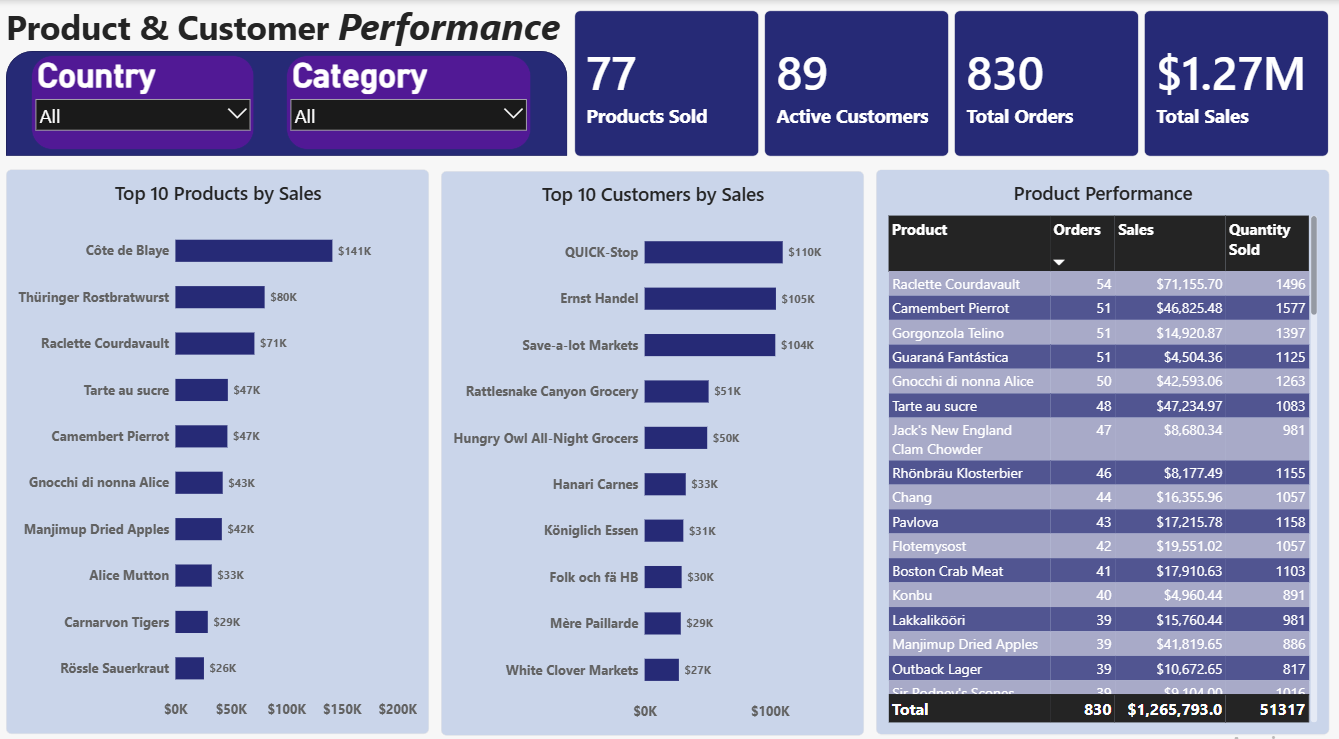

This screenshot's page, from the dashboard's own definition file:
{"tool":"powerbi","page":{"name":"Page 2","canvas":[1920,1080],"ordinal":1},"visuals":[{"type":"textbox","box":[9.5,0,813.6,90.7],"z":0},{"type":"cardVisual","fields":{"Data":["_measures.Total Product Sold","_measures.Total Customers","_measures.Total Orders","_measures.Total Sales"]},"box":[823.1,14.3,1080.8,210],"z":1},{"type":"shape","box":[9.5,74,804.1,150.3],"z":2},{"type":"clusteredBarChart","title":"Top 10 Products by Sales","fields":{"Category":["dim_products.product_name"],"Y":["_measures.Total Sales"]},"box":[9.5,243.4,606,808.8],"z":3},{"type":"clusteredBarChart","title":"Top 10 Customers by Sales","fields":{"Category":["dim_customers.company_name"],"Y":["_measures.Total Sales"]},"box":[632.3,245.7,606,808.8],"z":4},{"type":"tableEx","title":"Product Performance","fields":{"Values":["dim_products.product_name","_measures.Total Orders","_measures.Total Sales","_measures.Total Quantity Sold"]},"box":[1255,243.4,649,809],"z":5},{"type":"slicer","fields":{"Values":["dim_customers.country"]},"box":[44.9,80.3,319,134.7],"z":6},{"type":"slicer","fields":{"Values":["dim_products.category_name"]},"box":[411.1,80.3,349.7,134.7],"z":7}]}

Visuals, with their boxes in screenshot pixels (x1, y1, x2, y2), scaled from the page's 1920x1080 canvas onto the 1339x739 screenshot:
textbox: box(7, 0, 574, 62)
cardVisual - _measures.Total Product Sold x _measures.Total Customers: box(574, 10, 1328, 153)
shape: box(7, 51, 567, 153)
"Top 10 Products by Sales" clusteredBarChart: box(7, 167, 429, 720)
"Top 10 Customers by Sales" clusteredBarChart: box(441, 168, 864, 722)
"Product Performance" tableEx: box(875, 167, 1328, 720)
slicer - dim_customers.country: box(31, 55, 254, 147)
slicer - dim_products.category_name: box(287, 55, 531, 147)
